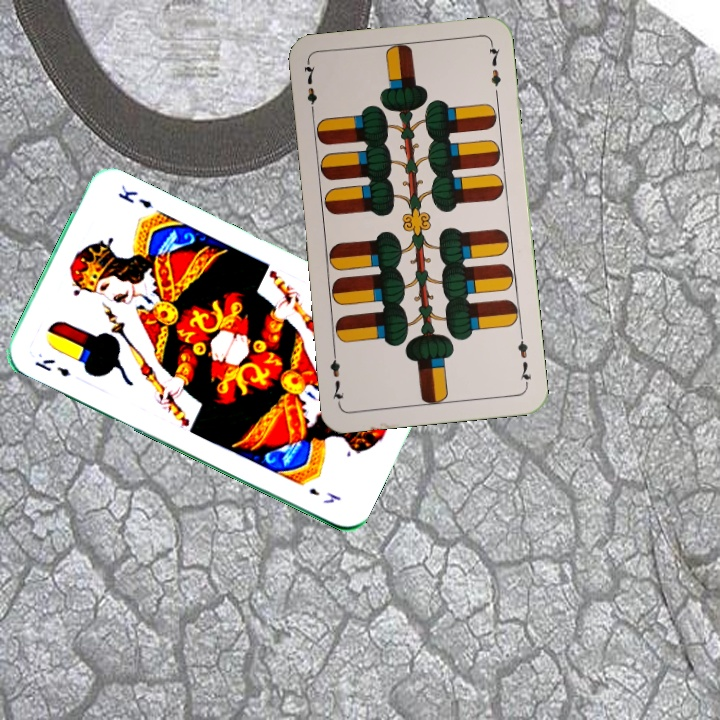E7: (513, 329, 534, 389), (299, 59, 320, 118)
EK: (30, 355, 73, 380)
